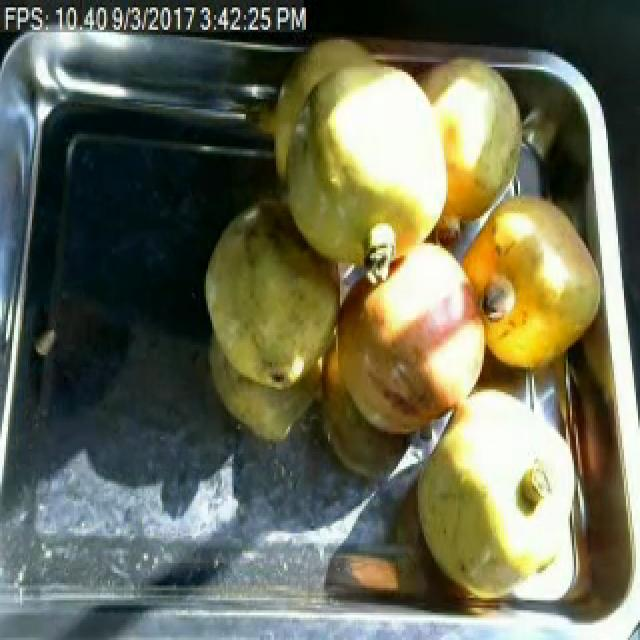fruit: (316, 221, 504, 461), (404, 374, 584, 608), (196, 188, 354, 412), (446, 173, 610, 384)
